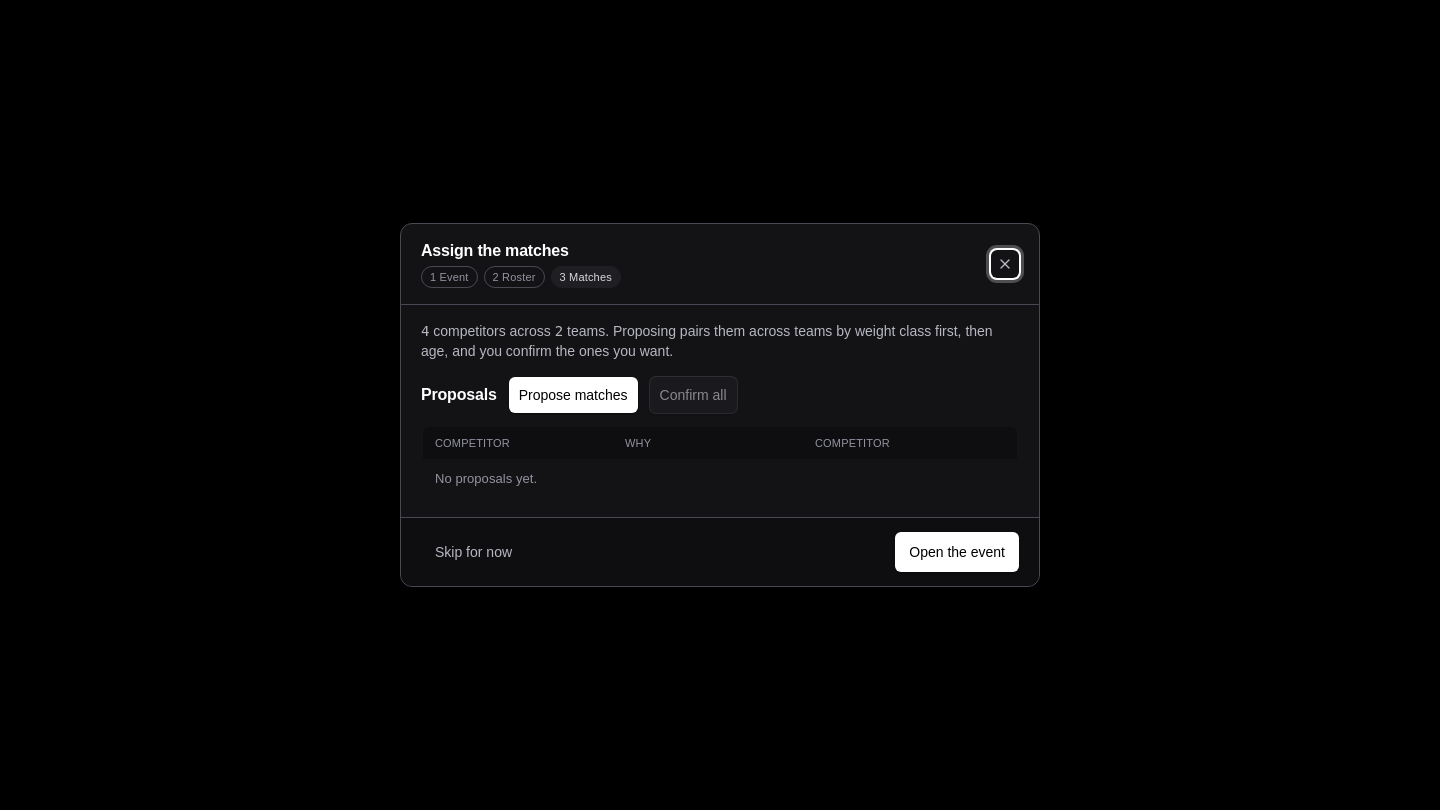
Test: SetupMatchesStep › reports a refused propose in the step, in the server sentence
Expected: the heading "Assign the matches" is shown, [421,242,569,259]
Click the button "Propose matches" at (573, 395), box [509,377,638,413]
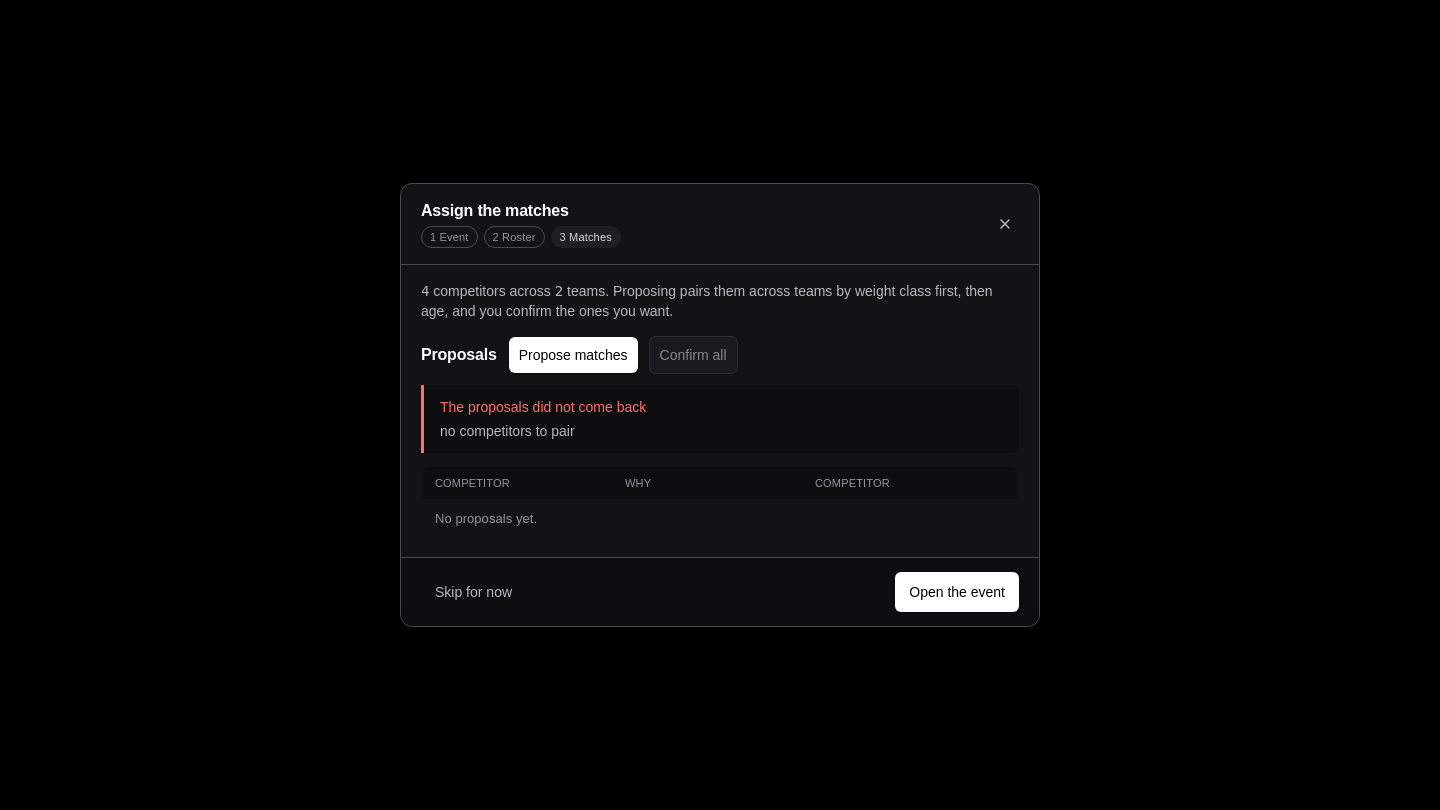
Expected: the message shows "no competitors to pair", [440,423,575,439]
